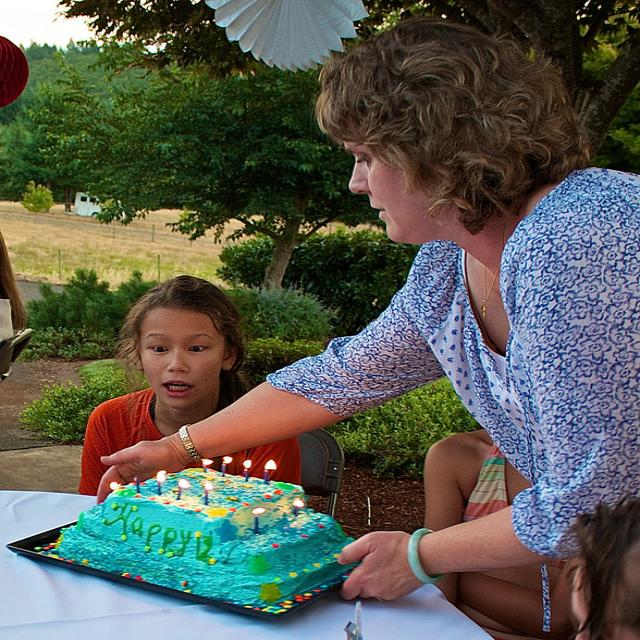chair: (300, 427, 344, 516)
dining table: (0, 463, 491, 640)
